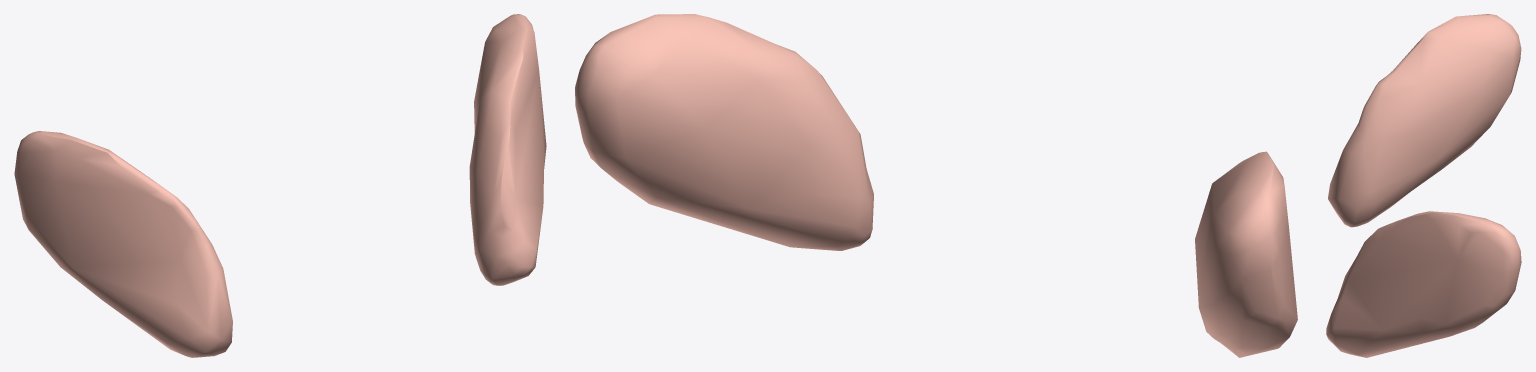
Rendered from submandibular.glb.
The picture shows the model from 3 angles, left to right: view 1: azimuth 30°, elevation 25°; view 2: azimuth 150°, elevation 25°; view 3: azimuth 270°, elevation 25°; orthographic projection. The views are drawn at different scales.
Parts seen in each view (by area): view 1: FJ2768, FJ2766; view 2: FJ2766, FJ2768; view 3: FJ2768, FJ2766.
Part boxes in pixels (x1=…): FJ2768: x1=14, y1=131, x2=232, y2=357; FJ2766: x1=469, y1=14, x2=546, y2=285; FJ2766: x1=575, y1=14, x2=873, y2=250; FJ2768: x1=1195, y1=151, x2=1297, y2=357; FJ2768: x1=1328, y1=14, x2=1521, y2=227; FJ2766: x1=1326, y1=211, x2=1521, y2=357.
Bounding box in the file's own units: 0.1855 × 0.0672 × 0.0688.
